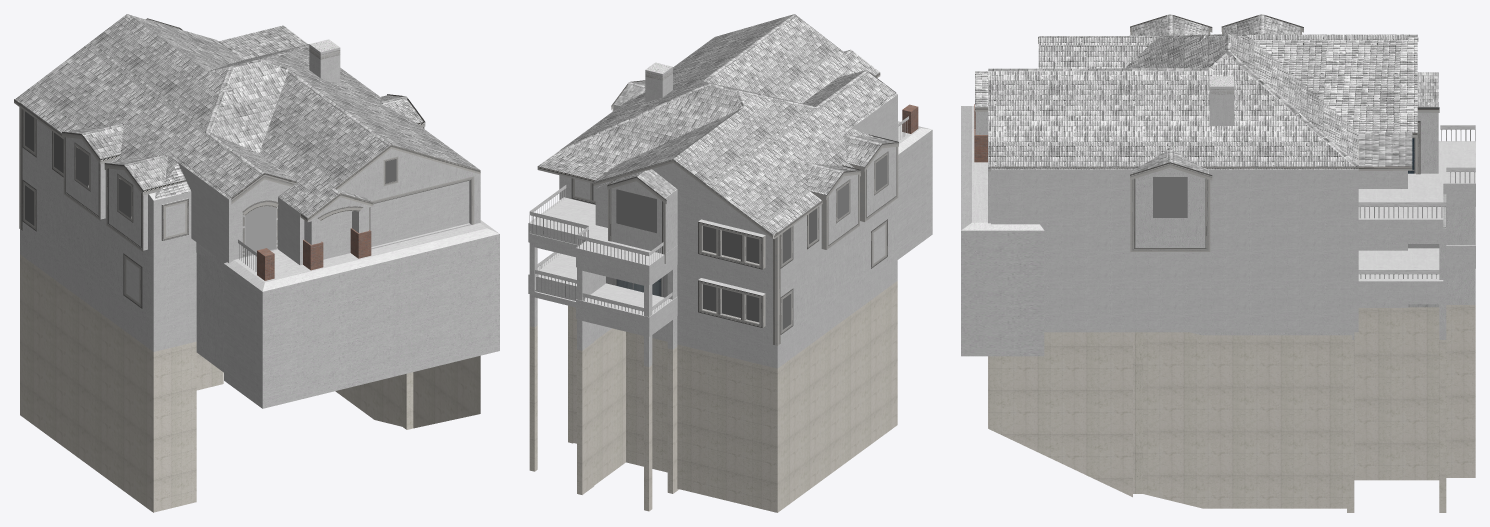
The model's file is house1.dae.
The picture shows the model from 3 angles, left to right: view 1: azimuth 30°, elevation 25°; view 2: azimuth 150°, elevation 25°; view 3: azimuth 270°, elevation 25°; orthographic projection. The views are drawn at different scales.
Visible parts, largest first — view 1: house1_a500, house1_a100, house1_a250, Colmesh-1; view 2: house1_a500, house1_a100, house1_a250, Colmesh-1; view 3: house1_a500, house1_a100, Colmesh-1, house1_a250.
Boxes of the visible parts, x1,y1,x2,y2 form: house1_a500: [14, 14, 499, 512]; house1_a100: [20, 17, 469, 351]; house1_a250: [20, 39, 480, 350]; Colmesh-1: [240, 146, 499, 291]; house1_a500: [529, 14, 932, 512]; house1_a100: [528, 67, 897, 368]; house1_a250: [616, 62, 897, 366]; Colmesh-1: [825, 50, 910, 133]; house1_a500: [961, 14, 1475, 512]; house1_a100: [991, 34, 1475, 332]; Colmesh-1: [961, 74, 1044, 230]; house1_a250: [988, 76, 1233, 222].
Size of the model in its own units: 14.41 by 21.16 by 18.62.
